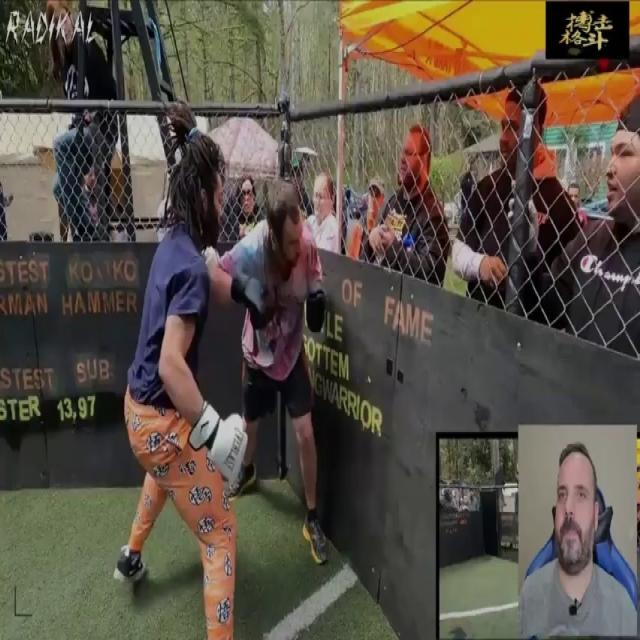fight: (116, 95, 329, 633)
non-fight: (517, 434, 638, 638)
